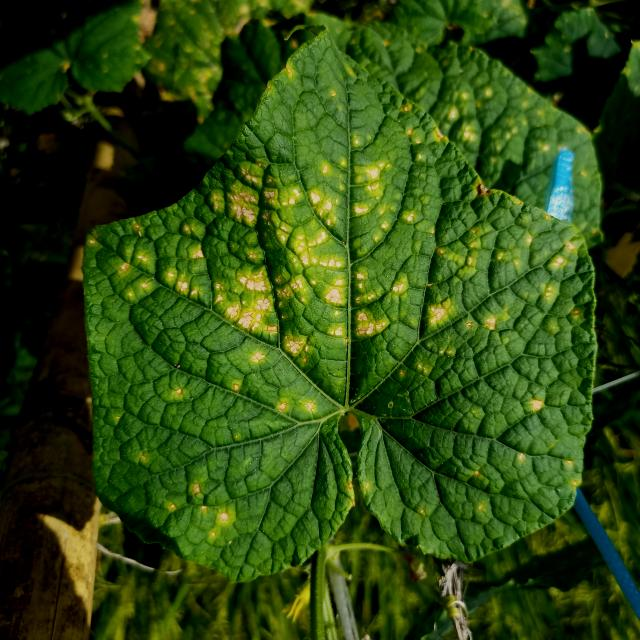disease_cucumber: (99, 104, 585, 551)
